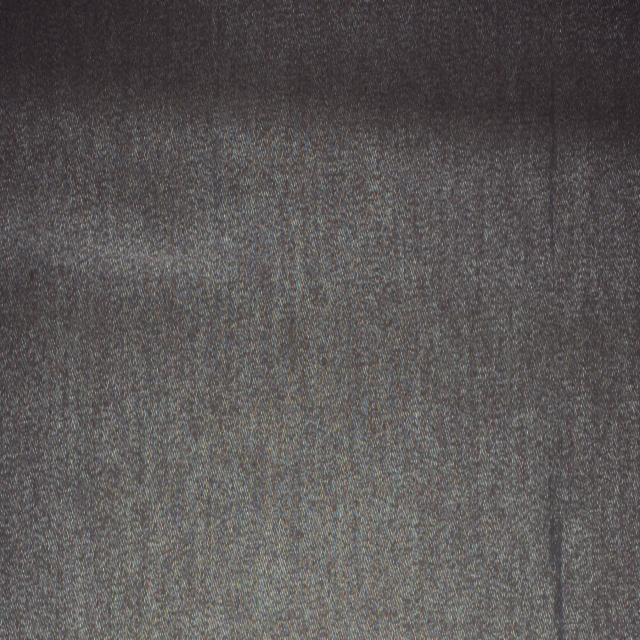Stain: (545, 443, 568, 640), (550, 32, 562, 294)
